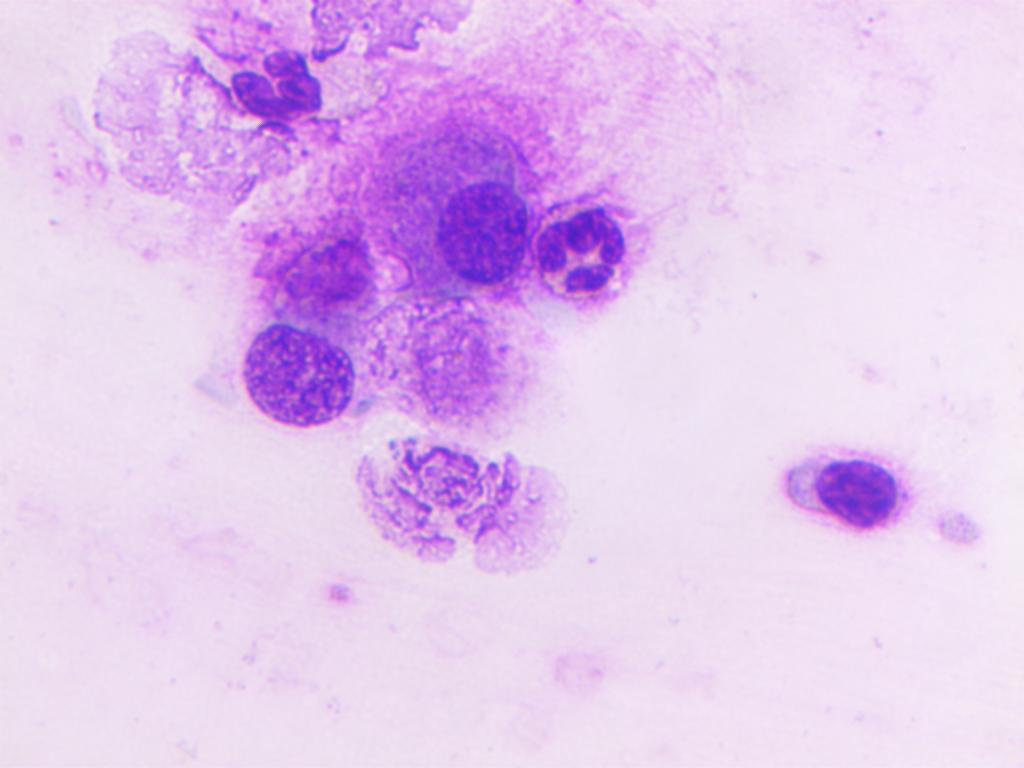artifact: (363, 422, 572, 590), (232, 186, 397, 310)
metaplastic: (206, 306, 372, 434), (432, 173, 529, 302)
neutrophil: (531, 159, 677, 313), (217, 43, 331, 135)
